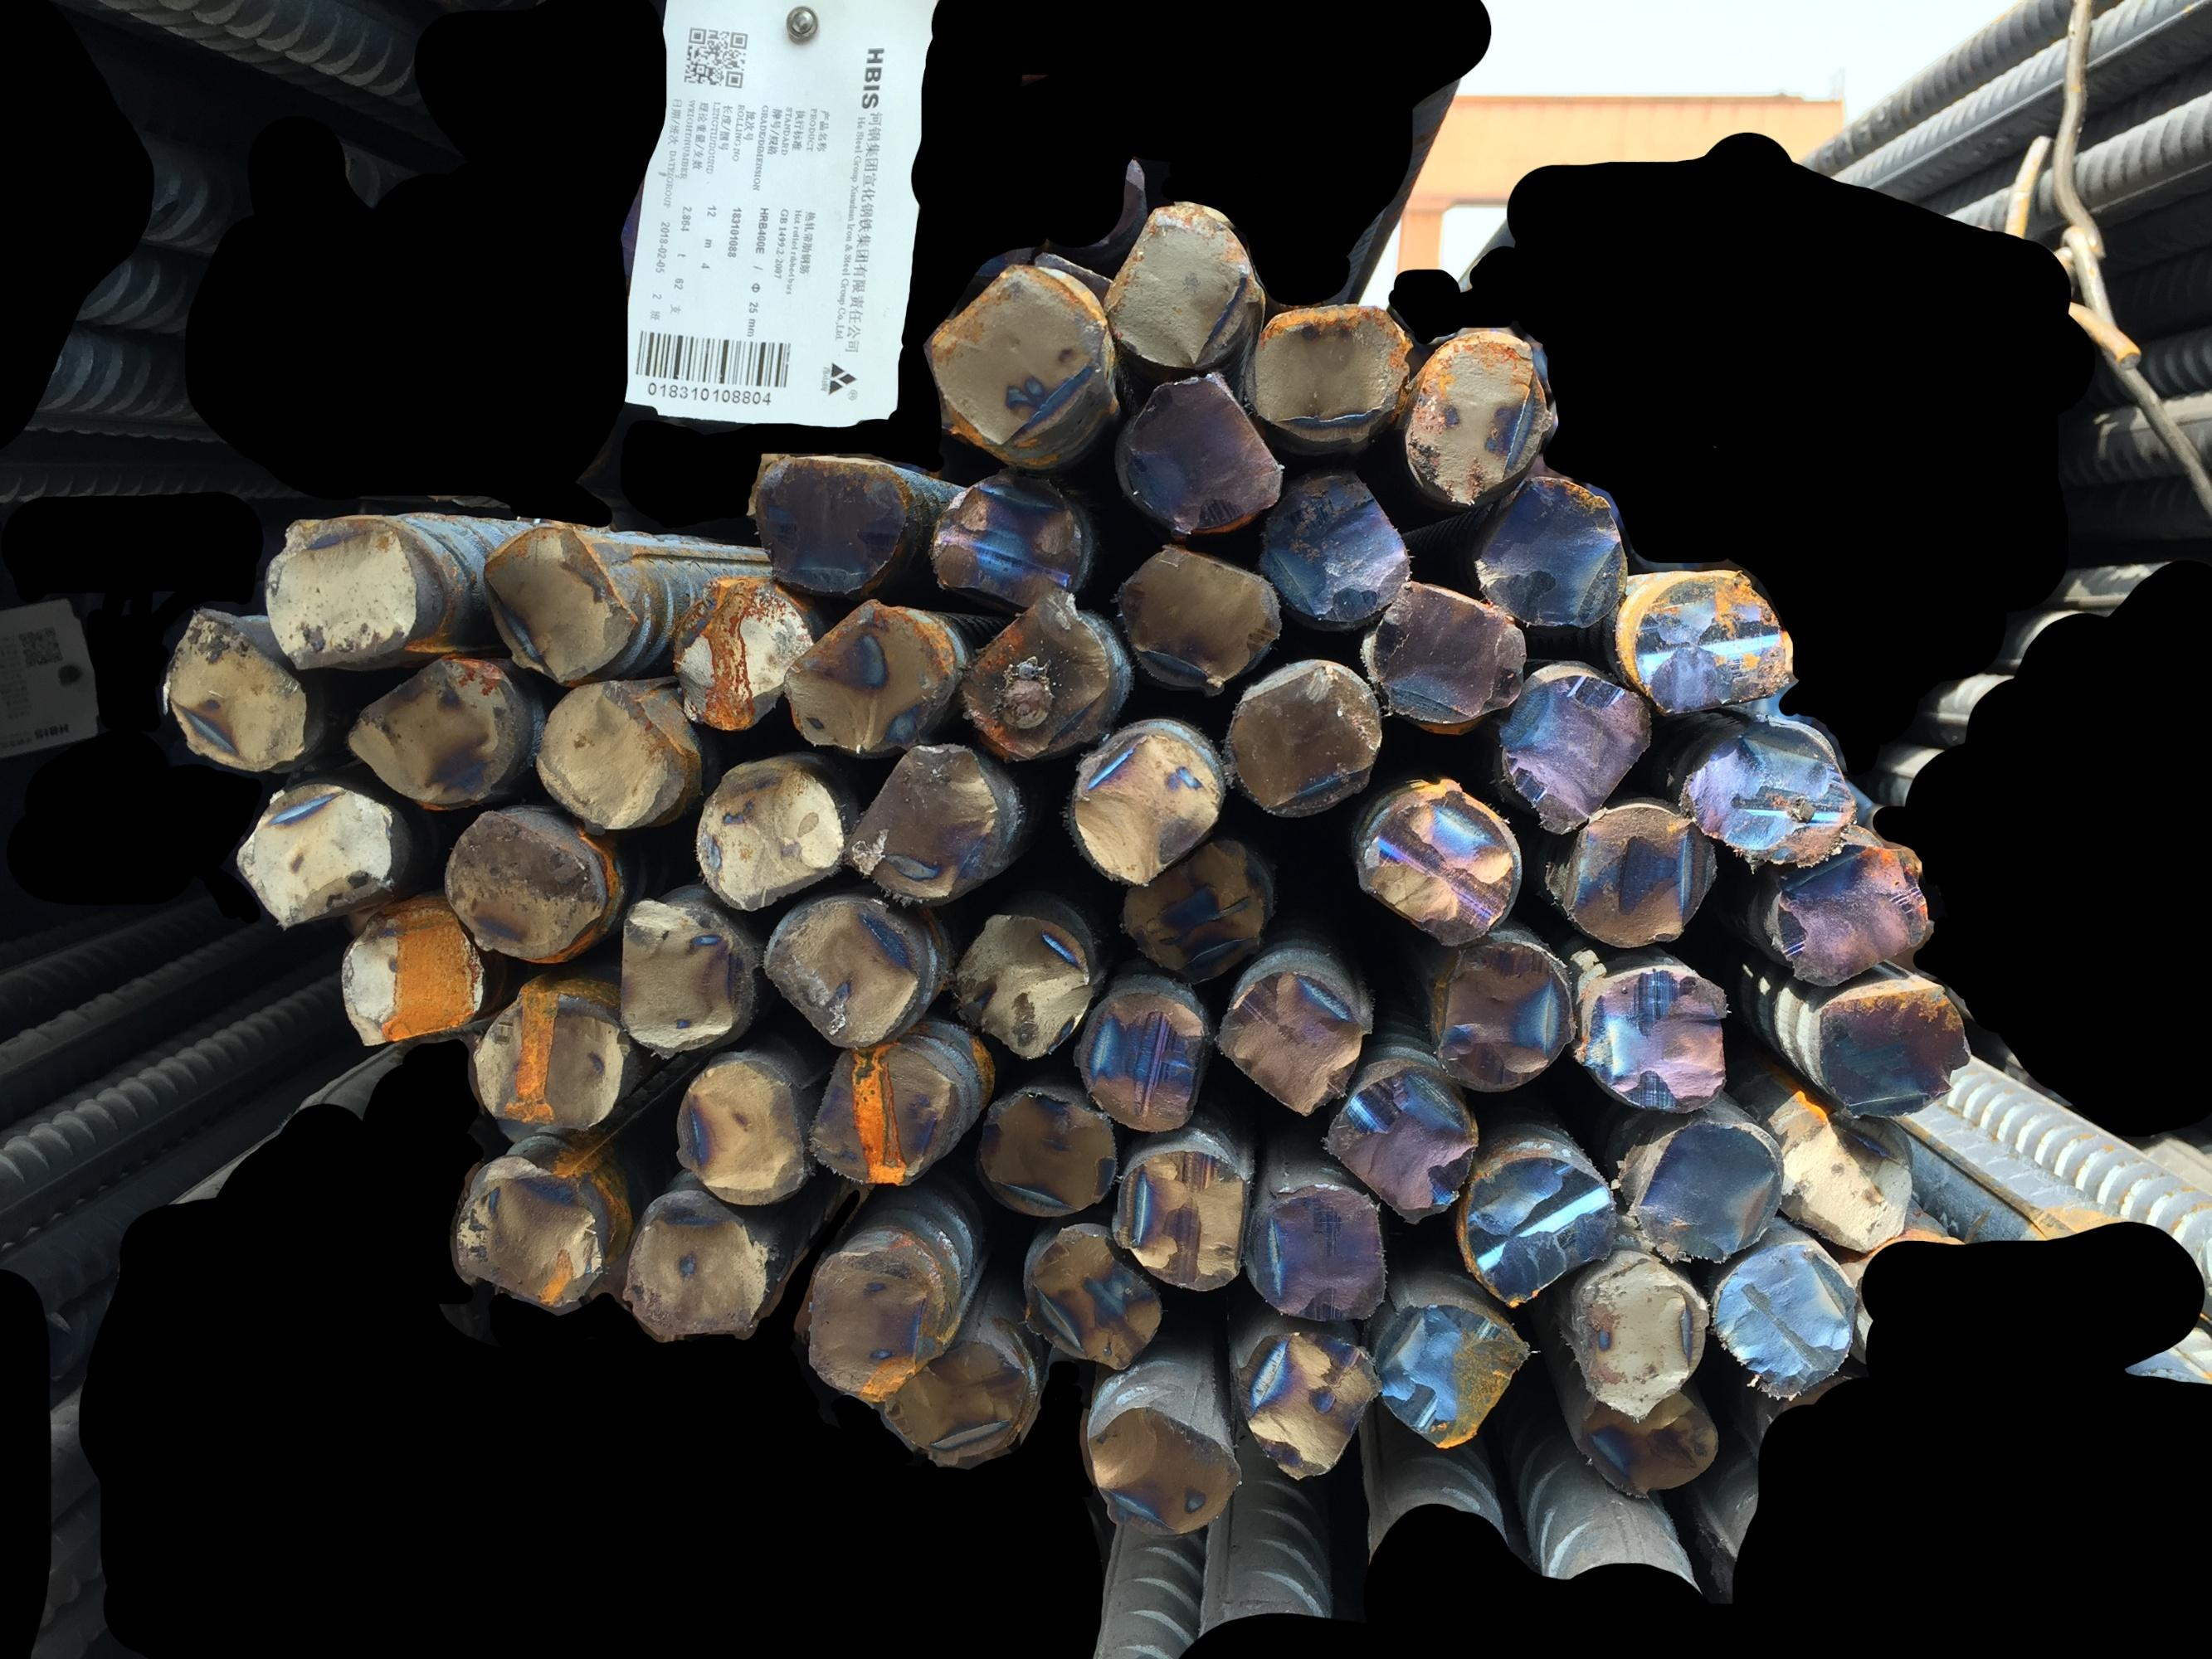bar: (920, 256, 1116, 467), (336, 652, 525, 814), (1677, 709, 1867, 870), (1096, 197, 1269, 373), (777, 591, 955, 762), (1313, 1056, 1490, 1227), (1349, 781, 1523, 951), (953, 584, 1117, 765), (1114, 368, 1288, 537), (1400, 326, 1557, 511), (1536, 798, 1722, 953), (1562, 1239, 1715, 1427), (474, 521, 643, 690), (1358, 570, 1534, 732), (1452, 1147, 1625, 1310), (1492, 666, 1656, 838), (227, 774, 403, 934), (153, 599, 312, 777), (256, 511, 427, 674), (1109, 538, 1288, 694), (1222, 659, 1389, 824), (1363, 1297, 1537, 1453), (1469, 469, 1637, 631), (1248, 467, 1417, 627), (436, 803, 601, 965), (758, 894, 927, 1053), (1067, 721, 1225, 890), (1623, 566, 1795, 721), (838, 739, 1001, 903), (689, 756, 856, 915), (451, 1150, 610, 1317), (1571, 962, 1740, 1119), (1764, 840, 1940, 990), (940, 906, 1103, 1066), (662, 570, 821, 735), (1706, 1234, 1865, 1399), (922, 462, 1091, 617), (528, 673, 689, 835), (1112, 828, 1272, 990), (1421, 931, 1578, 1096), (1625, 1112, 1792, 1267), (1245, 296, 1417, 446), (750, 446, 912, 605), (1229, 1326, 1386, 1486), (615, 1188, 777, 1344), (802, 1035, 964, 1188), (1075, 1398, 1248, 1539), (335, 899, 492, 1054), (1016, 1216, 1171, 1373), (1211, 964, 1368, 1119), (467, 986, 629, 1136), (802, 1246, 953, 1403), (1241, 1175, 1393, 1330), (1773, 1101, 1921, 1260), (1105, 1143, 1257, 1297), (1811, 983, 1977, 1122), (875, 1331, 1041, 1469), (1067, 983, 1211, 1138), (610, 890, 743, 1060), (669, 1056, 814, 1209), (967, 1084, 1123, 1223), (1569, 1375, 1724, 1502)
